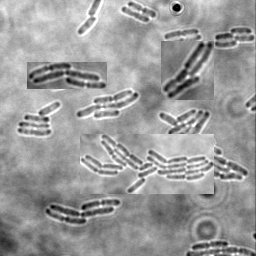Dividing: (128, 1, 157, 18), (164, 28, 200, 39), (192, 239, 229, 249), (166, 34, 202, 40)
Microcolony: (80, 134, 214, 194), (158, 109, 249, 180), (161, 41, 214, 100), (27, 62, 107, 89), (76, 88, 139, 119), (45, 199, 121, 224), (18, 101, 61, 136), (214, 27, 255, 48)
Rod: (121, 5, 150, 23), (78, 16, 99, 34)
